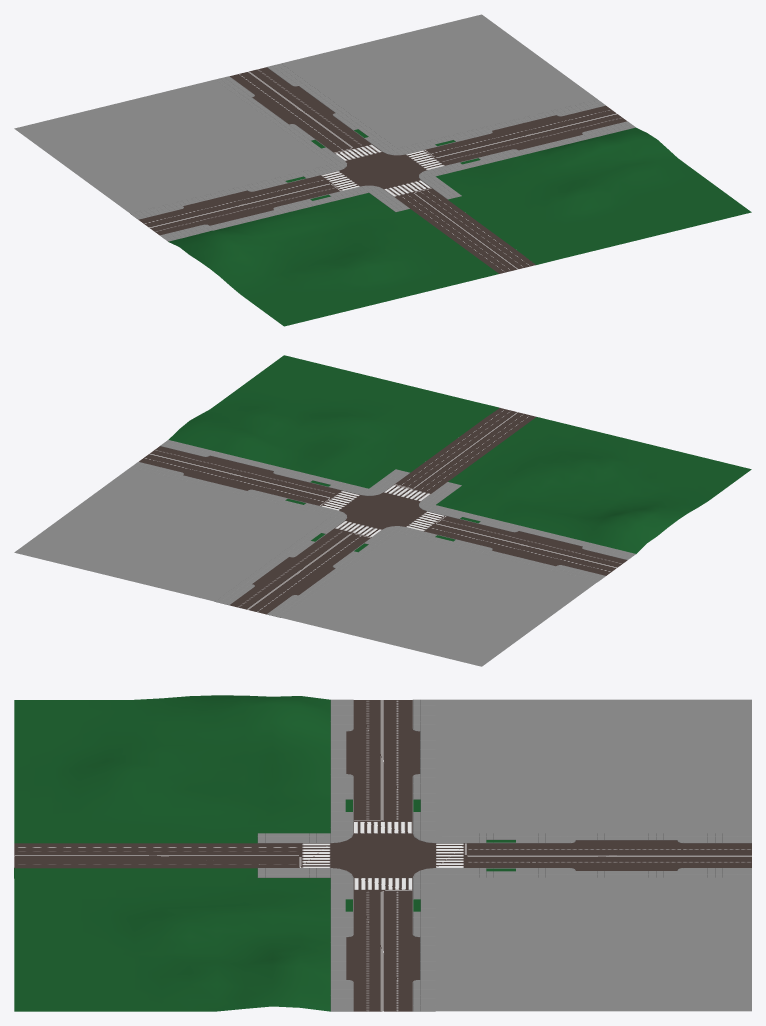
The model's file is TileCityHighway1.fbx.
3 views of the same model, one above another, from view 1: azimuth 30°, elevation 25°; view 2: azimuth 150°, elevation 25°; view 3: azimuth 270°, elevation 25° (orthographic). The views are drawn at different scales.
Parts seen in each view (by area): view 1: Plane.141, Sidewalk1.117, Road1.002, Road, Road1.020, Road1.003, Sidewalk1.102, Sidewalk1.103, Sidewalk1.208; view 2: Plane.141, Sidewalk1.117, Road1.002, Road, Road1.020, Road1.003, Sidewalk1.102, Sidewalk1.103, Sidewalk1.208; view 3: Plane.141, Sidewalk1.117, Road1.002, Road, Road1.020, Road1.003, Sidewalk1.208, Sidewalk1.102, Sidewalk1.103, Sidewalk1.244, Sidewalk1.114, Sidewalk1.107 (+19 smaller).
Part boxes in pixels (bbox=[...]): Plane.141: bbox=[168, 127, 751, 326]; Sidewalk1.117: bbox=[14, 14, 597, 213]; Road1.002: bbox=[138, 105, 626, 235]; Road: bbox=[395, 188, 535, 273]; Road1.020: bbox=[230, 67, 370, 152]; Road1.003: bbox=[339, 152, 426, 188]; Sidewalk1.102: bbox=[266, 169, 350, 208]; Sidewalk1.103: bbox=[415, 132, 499, 171]; Sidewalk1.208: bbox=[293, 121, 385, 156]; Plane.141: bbox=[168, 355, 751, 553]; Sidewalk1.117: bbox=[14, 468, 597, 666]; Road1.002: bbox=[139, 446, 627, 575]; Road: bbox=[395, 407, 536, 492]; Road1.020: bbox=[229, 529, 370, 614]; Road1.003: bbox=[339, 492, 426, 529]; Sidewalk1.102: bbox=[415, 509, 499, 548]; Sidewalk1.103: bbox=[266, 473, 350, 512]; Sidewalk1.208: bbox=[293, 524, 385, 560]; Plane.141: bbox=[14, 695, 330, 1011]; Sidewalk1.117: bbox=[435, 699, 751, 1011]; Road1.002: bbox=[353, 700, 412, 1011]; Road: bbox=[14, 843, 298, 868]; Road1.020: bbox=[467, 843, 751, 868]; Road1.003: bbox=[330, 833, 435, 877]; Sidewalk1.208: bbox=[464, 833, 537, 877]; Sidewalk1.102: bbox=[330, 790, 435, 821]; Sidewalk1.103: bbox=[330, 889, 435, 920]; Sidewalk1.244: bbox=[604, 833, 648, 877]; Sidewalk1.114: bbox=[330, 743, 435, 762]; Sidewalk1.107: bbox=[330, 949, 435, 967].
Size of the model in its own units: 20013 by 543 by 20010.
